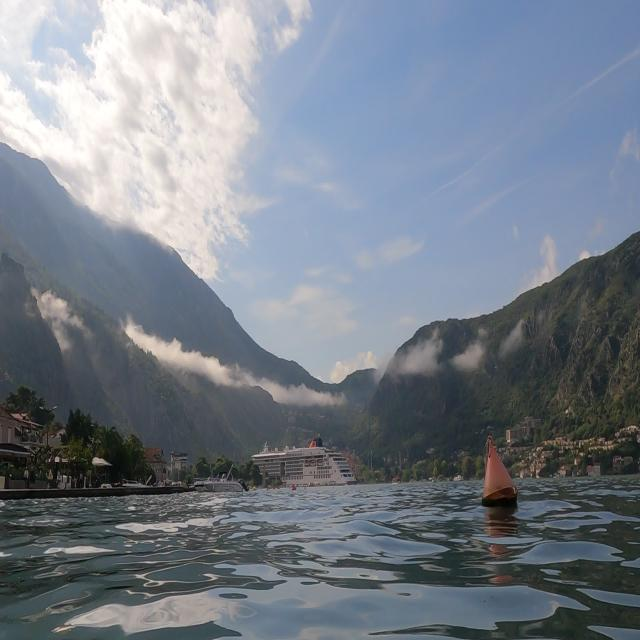boat: (248, 432, 379, 503)
buoy: (462, 431, 534, 521)
